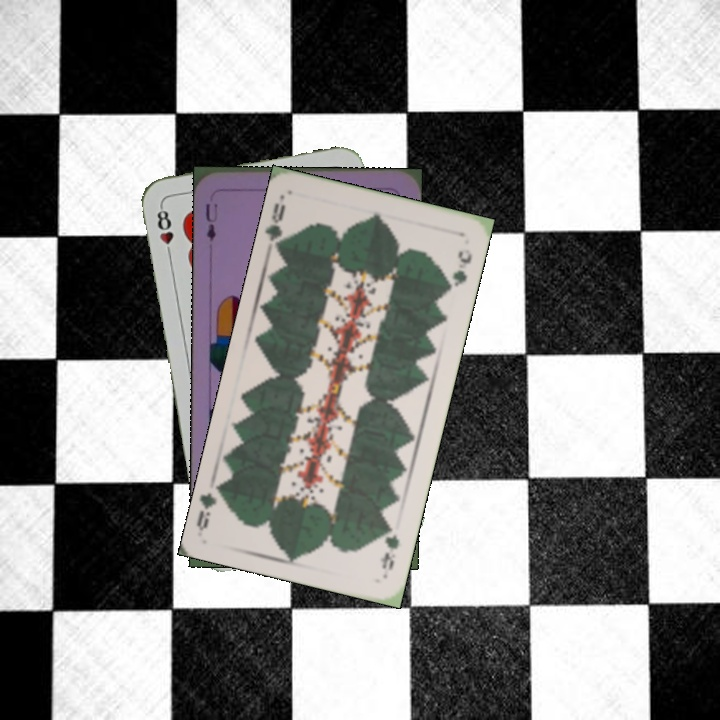EU: (201, 199, 220, 243)
G9: (263, 199, 290, 253), (376, 520, 402, 576)
H8: (153, 202, 176, 261)
